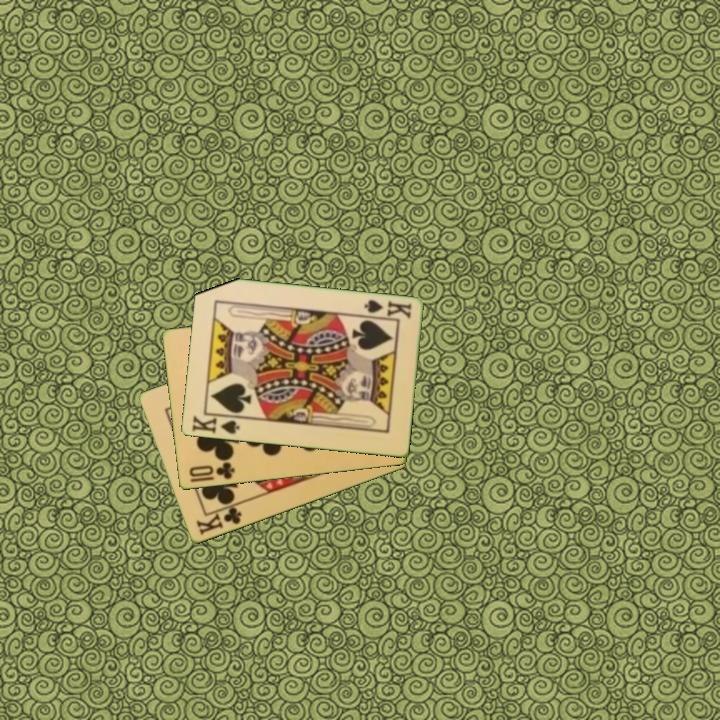10c: (185, 459, 237, 485)
Kc: (192, 500, 245, 539)
Ks: (188, 411, 244, 437), (360, 296, 414, 322)
